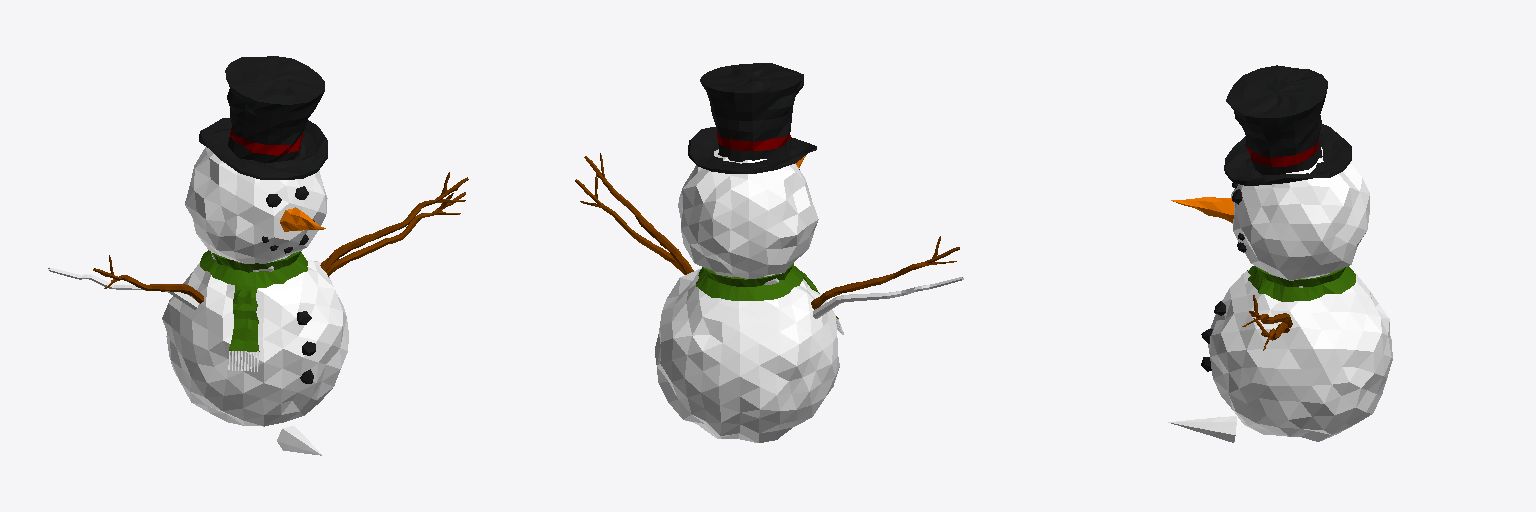
File: Snowman.obj
3 renders of one model, left to right at view 1: azimuth 30°, elevation 25°; view 2: azimuth 150°, elevation 25°; view 3: azimuth 270°, elevation 25°, orthographic.
Parts seen in each view (by area): view 1: upper_body.1, Hat.1, head_sphere.1, Scarf.1, Symmetry, scarf_end, Spline_sweep, Spline_sweep_2, Cone.1, Cone; view 2: upper_body.1, head_sphere.1, Hat.1, Scarf.1, Symmetry, Spline_sweep_2, Spline_sweep; view 3: upper_body.1, head_sphere.1, Hat.1, Scarf.1, Cone.1, Cone.
Boxes of the visible parts, box(x1,y1,x2,y2) form: upper_body.1: box(162, 258, 348, 426); Hat.1: box(199, 56, 327, 179); head_sphere.1: box(185, 147, 327, 263); Scarf.1: box(200, 250, 307, 287); Symmetry: box(93, 172, 468, 303); scarf_end: box(229, 285, 259, 351); Spline_sweep: box(326, 192, 465, 276); Spline_sweep_2: box(48, 267, 198, 309); Cone.1: box(277, 426, 322, 455); Cone: box(280, 207, 325, 231); upper_body.1: box(655, 268, 839, 442); head_sphere.1: box(678, 149, 818, 278); Hat.1: box(688, 63, 816, 173); Scarf.1: box(696, 263, 803, 300); Symmetry: box(584, 153, 959, 309); Spline_sweep_2: box(813, 277, 963, 318); Spline_sweep: box(575, 174, 685, 274); upper_body.1: box(1208, 269, 1392, 441); head_sphere.1: box(1231, 147, 1369, 280); Hat.1: box(1224, 65, 1351, 185); Scarf.1: box(1248, 266, 1355, 301); Cone.1: box(1168, 416, 1236, 442); Cone: box(1171, 197, 1233, 222).
Size of the model in its own units: 260 by 221 by 126.